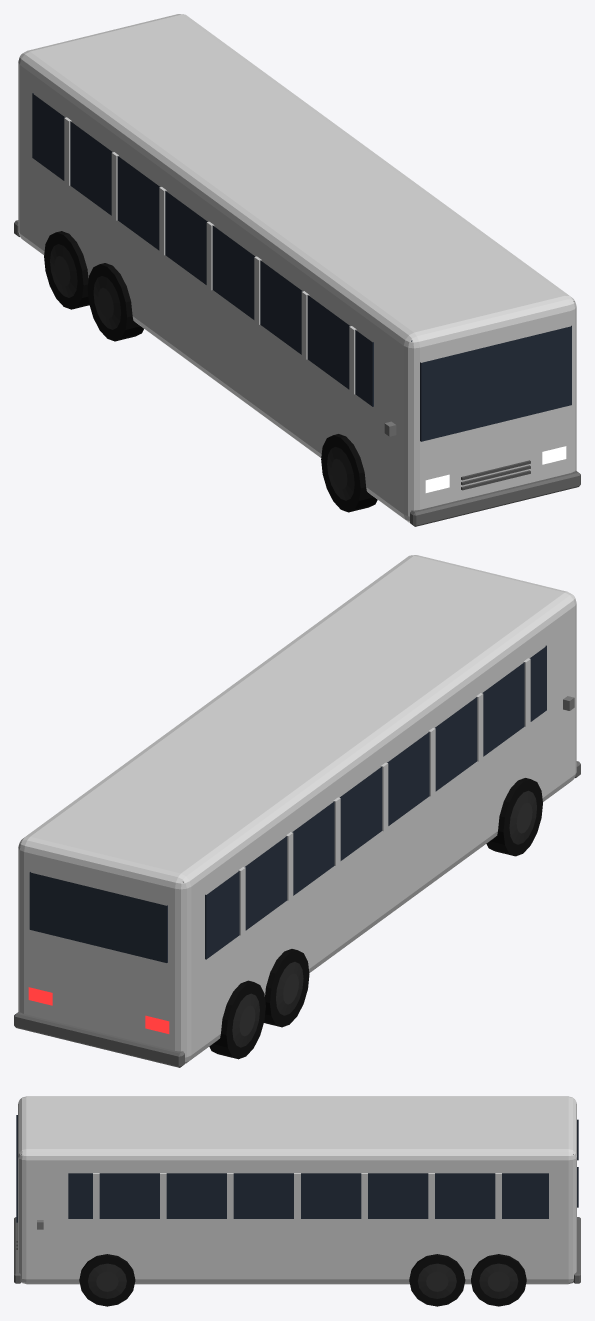
Rendered from bus.glb.
3 renders of one model, top to bottom at view 1: azimuth 30°, elevation 25°; view 2: azimuth 150°, elevation 25°; view 3: azimuth 270°, elevation 25°, orthographic. The views are drawn at different scales.
Visible parts, largest first — view 1: Body, WheelML, WheelFL, WheelRL; view 2: Body, WheelFL, WheelRL, WheelML; view 3: Body, WheelMR, WheelFR, WheelRR.
Boxes of the visible parts, box(x1,y1,x2,y2) form: Body: box(14, 14, 580, 526); WheelML: box(87, 263, 143, 341); WheelFL: box(321, 434, 377, 512); WheelRL: box(44, 231, 89, 309); Body: box(14, 555, 580, 1067); WheelFL: box(486, 778, 542, 856); WheelRL: box(209, 980, 265, 1059); WheelML: box(264, 949, 309, 1027); Body: box(14, 1096, 580, 1284); WheelMR: box(409, 1254, 465, 1306); WheelFR: box(79, 1254, 135, 1306); WheelRR: box(471, 1254, 526, 1306).
Bounding box in the file's own units: 2.7 × 3 × 10.14.
